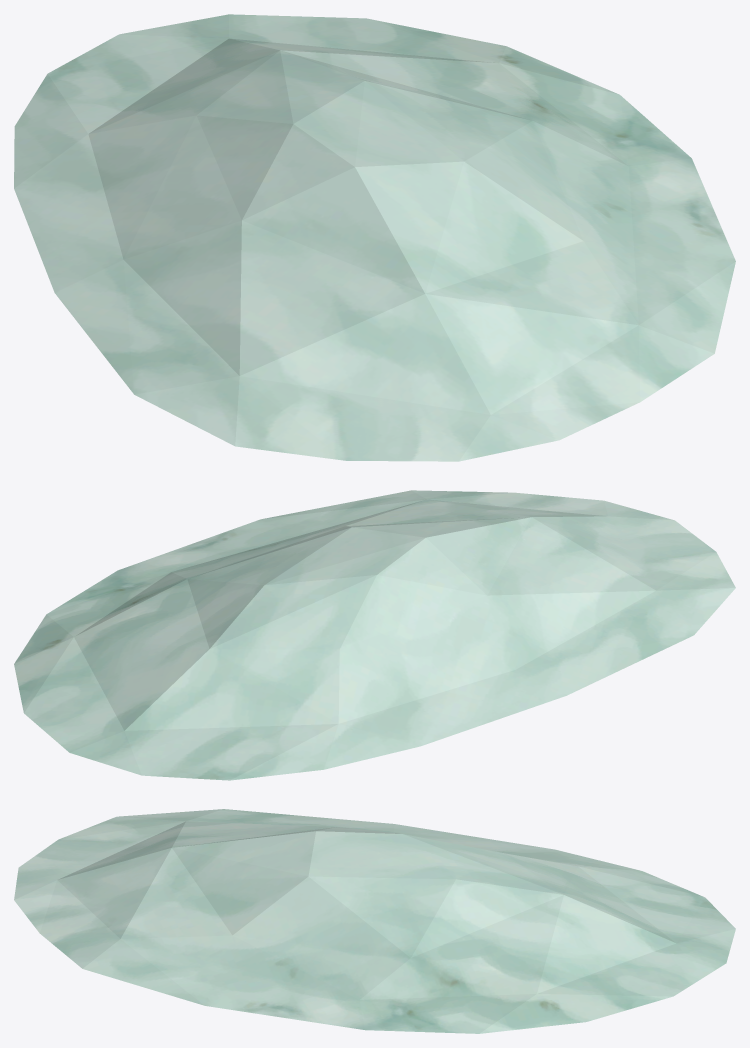
The model's file is small_hill03.fbx.
3 views of the same model, one above another, from view 1: azimuth 30°, elevation 25°; view 2: azimuth 150°, elevation 25°; view 3: azimuth 270°, elevation 25° (orthographic). The views are drawn at different scales.
Visible parts, largest first — view 1: obj0.015; view 2: obj0.015; view 3: obj0.015.
Boxes of the visible parts, bbox=[...] form: obj0.015: bbox=[14, 14, 735, 461]; obj0.015: bbox=[14, 490, 735, 780]; obj0.015: bbox=[14, 809, 735, 1033].
Size of the model in its own units: 8.33 by 1.28 by 11.3.
